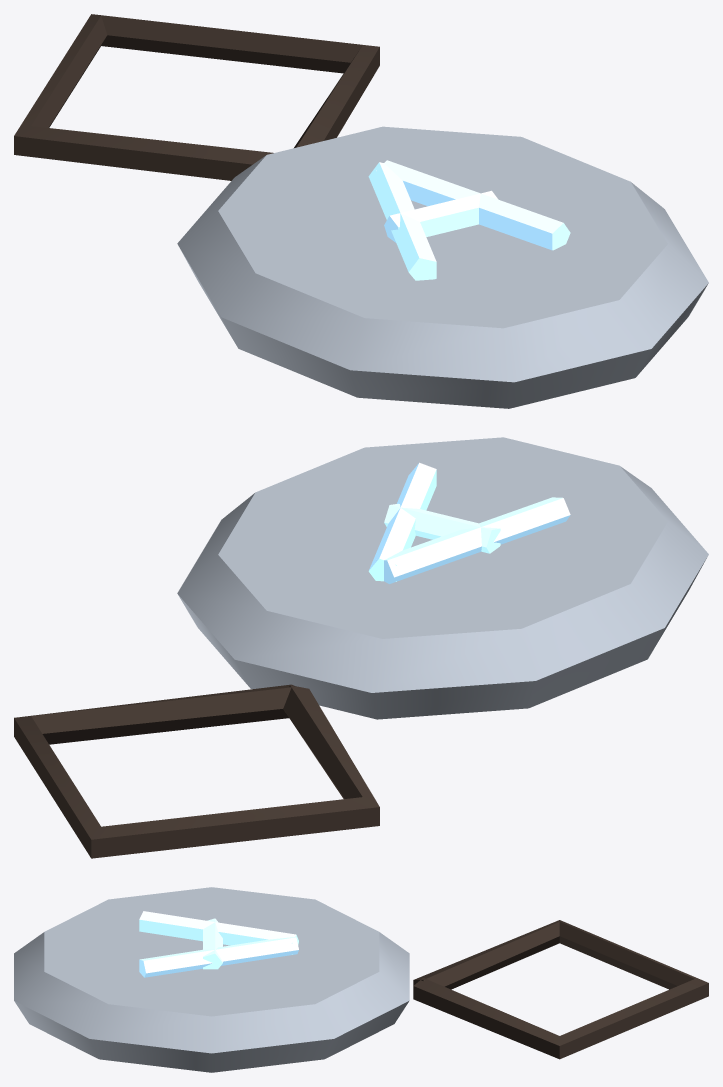
The model's file is tc_comet_lens.glb.
3 renders of one model, top to bottom at view 1: azimuth 30°, elevation 25°; view 2: azimuth 150°, elevation 25°; view 3: azimuth 270°, elevation 25°, orthographic. The views are drawn at different scales.
Parts seen in each view (by area): view 1: tc_comet_lens; view 2: tc_comet_lens; view 3: tc_comet_lens.
Boxes of the visible parts, bbox=[...] form: tc_comet_lens: bbox=[14, 14, 708, 408]; tc_comet_lens: bbox=[14, 437, 708, 858]; tc_comet_lens: bbox=[14, 887, 708, 1072].
Size of the model in its own units: 0.052 by 0.0105 by 0.0999.
